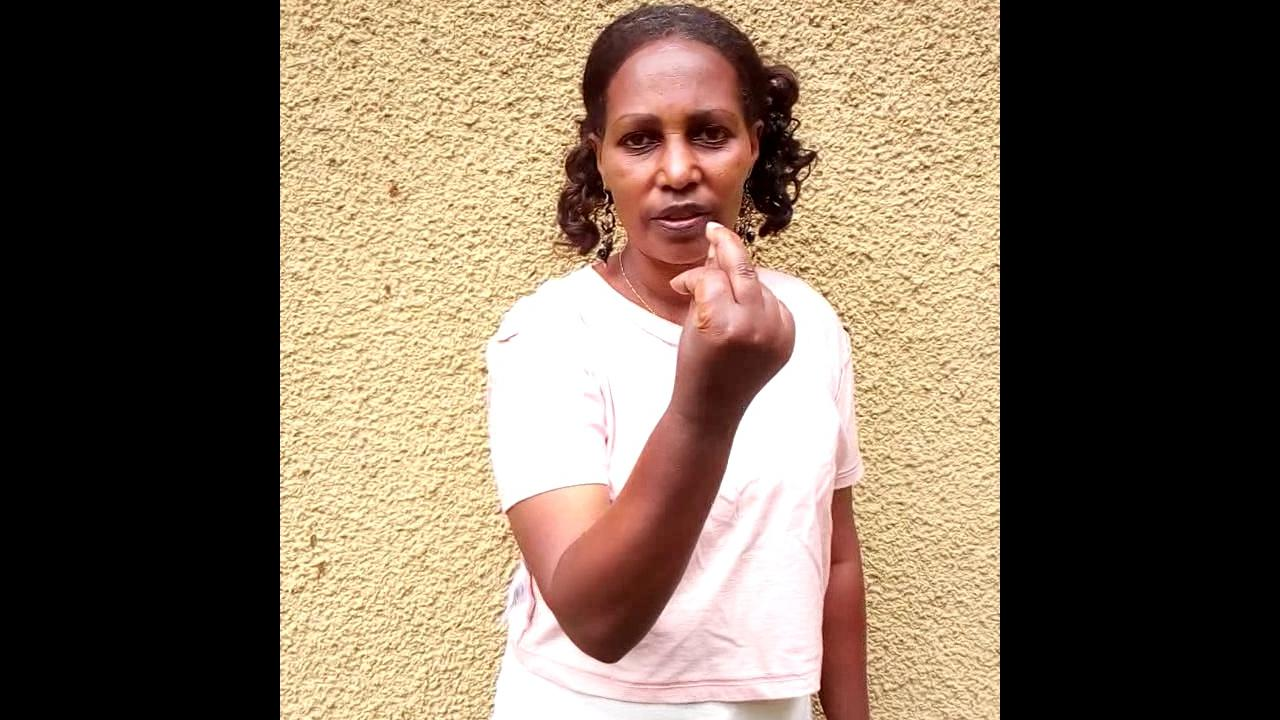CHE: (668, 220, 795, 519)
